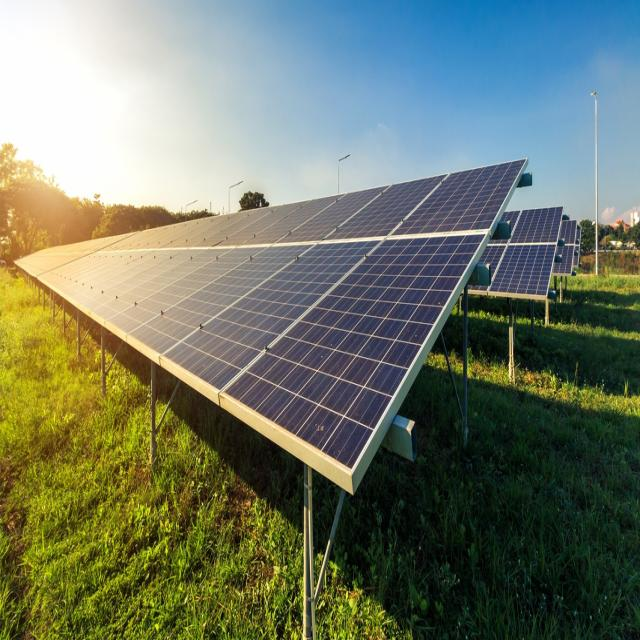dust-solar-panel: (18, 158, 526, 493)
